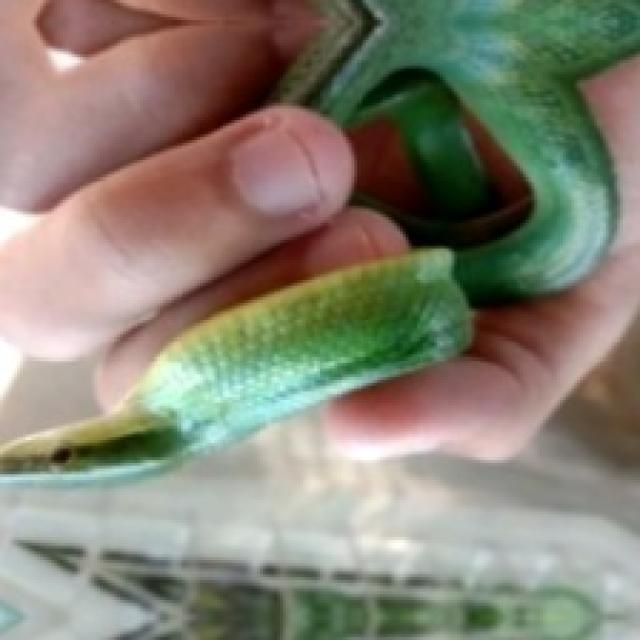red-tailed green ratsnake: (0, 1, 640, 486)
